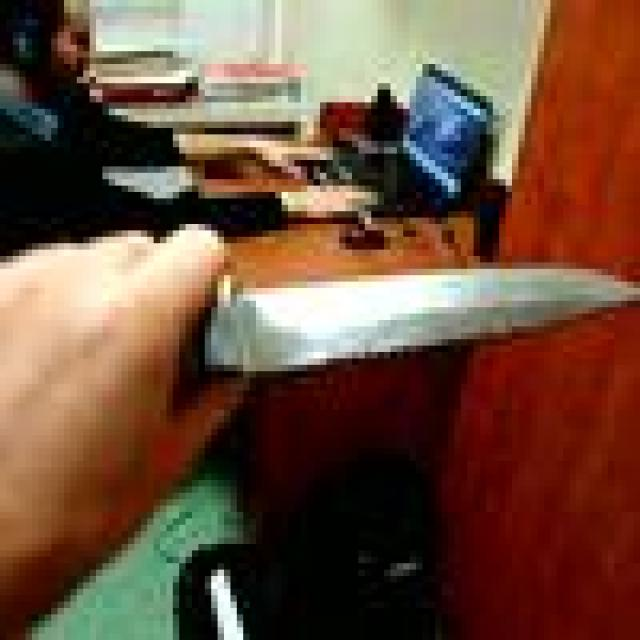knife: (222, 275, 640, 374)
